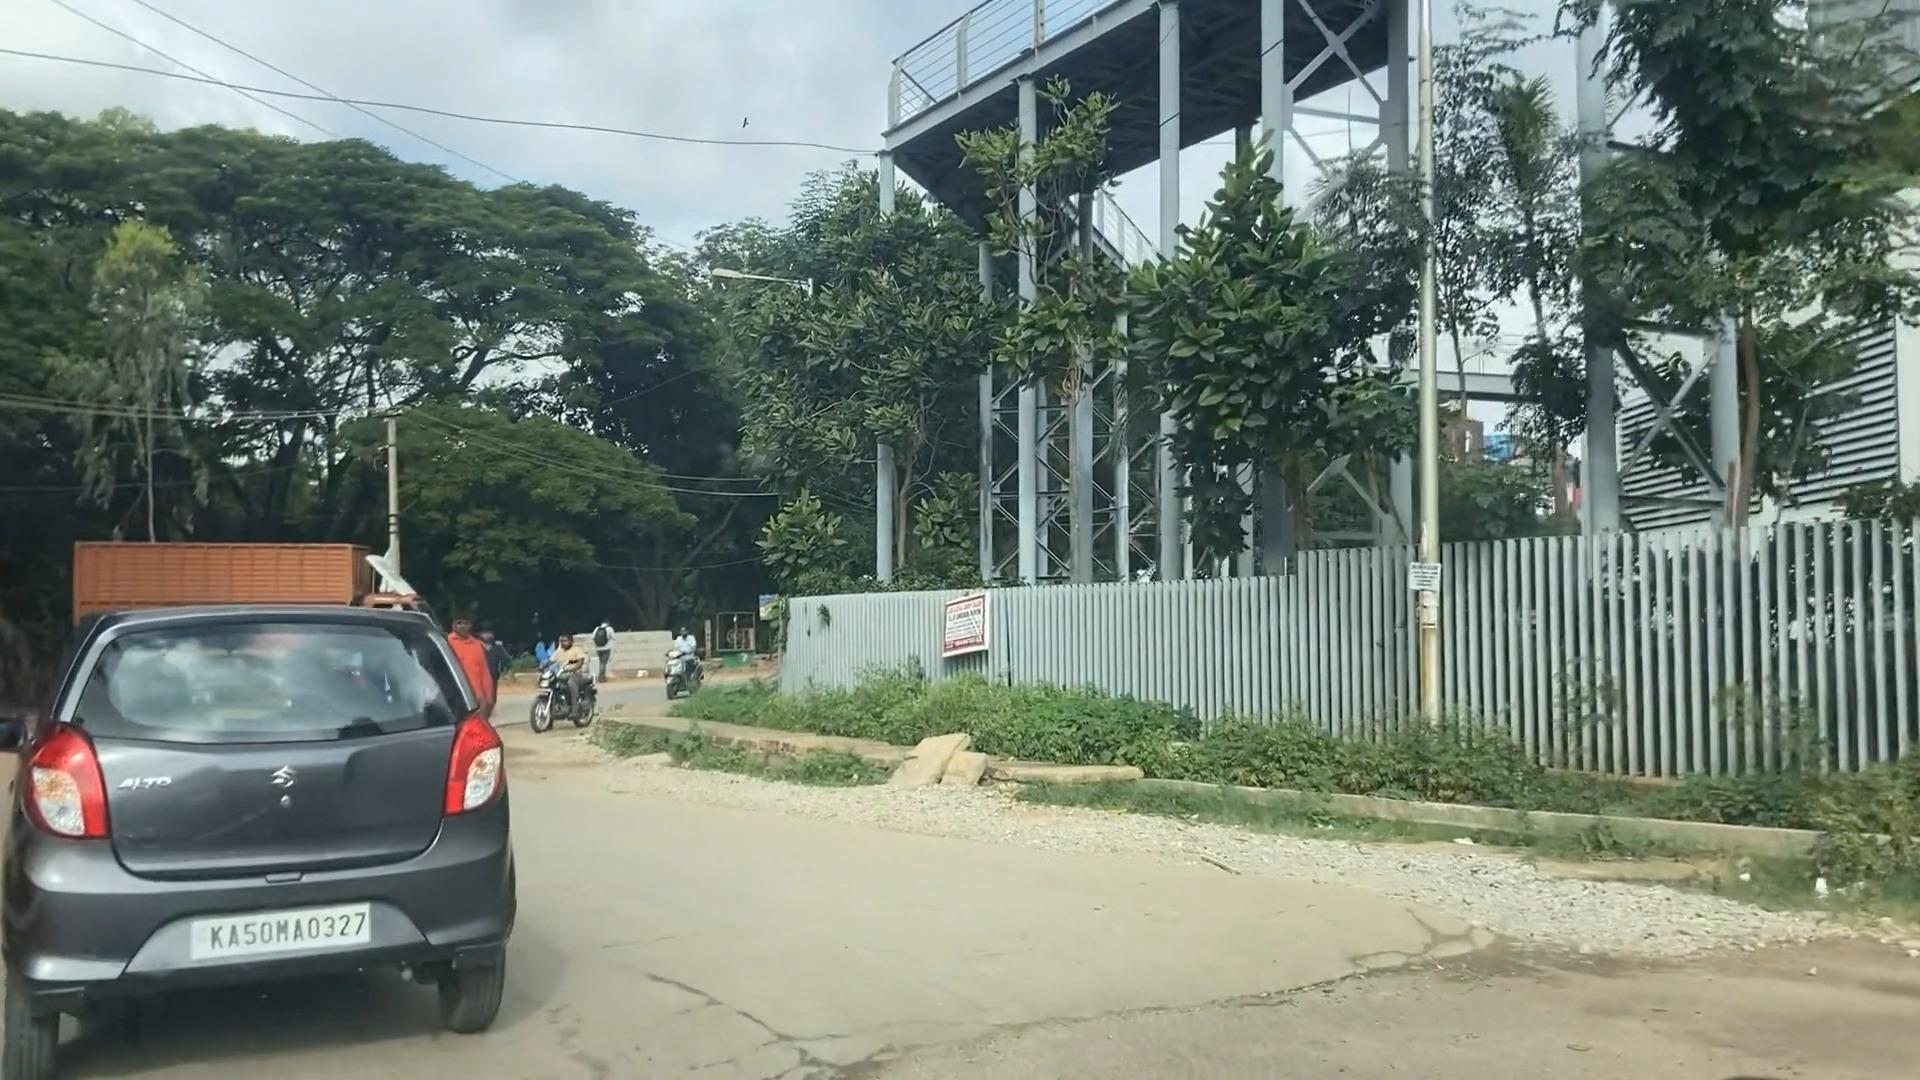LMV: (16, 608, 512, 1040), (537, 645, 596, 735)
RoadDamages: (604, 918, 1516, 1056)
